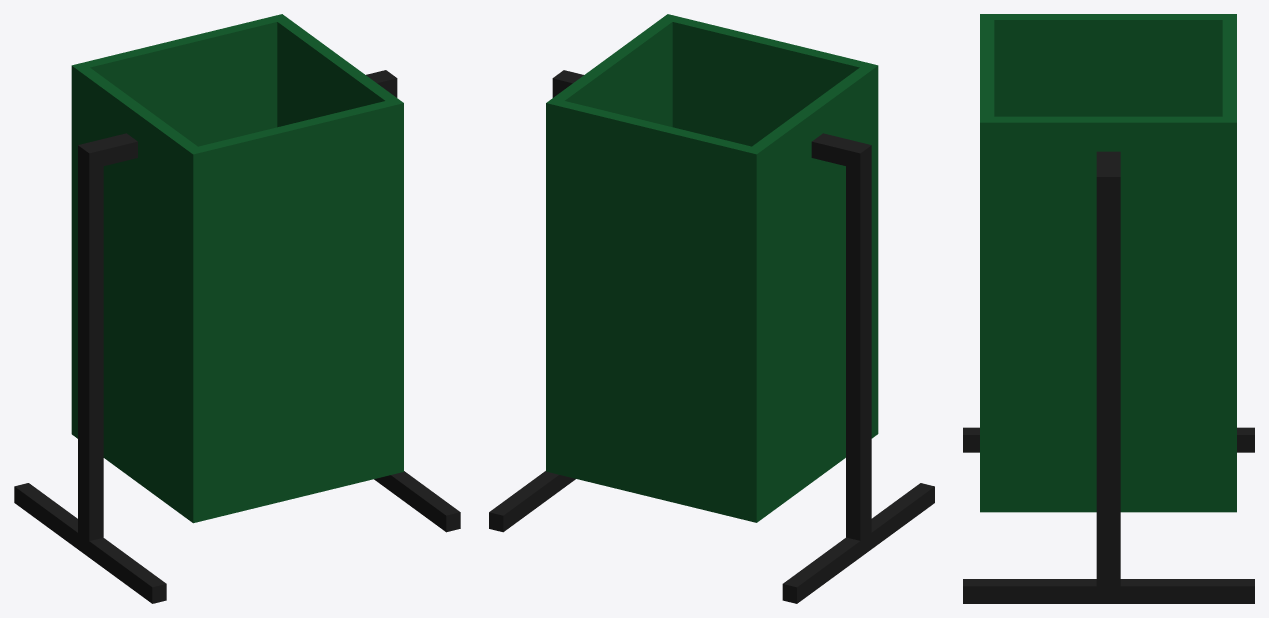
File: UrnTrash01.fbx
The picture shows the model from 3 angles, left to right: view 1: azimuth 30°, elevation 25°; view 2: azimuth 150°, elevation 25°; view 3: azimuth 270°, elevation 25°; orthographic projection. The views are drawn at different scales.
Visible parts, largest first — view 1: UrnTrash01; view 2: UrnTrash01; view 3: UrnTrash01.
Boxes of the visible parts, x1,y1,x2,y2 form: UrnTrash01: (14,14,460,603); UrnTrash01: (489,14,934,603); UrnTrash01: (963,14,1254,603).
Bounding box in the file's own units: 37.35 × 50.01 × 28.98.
